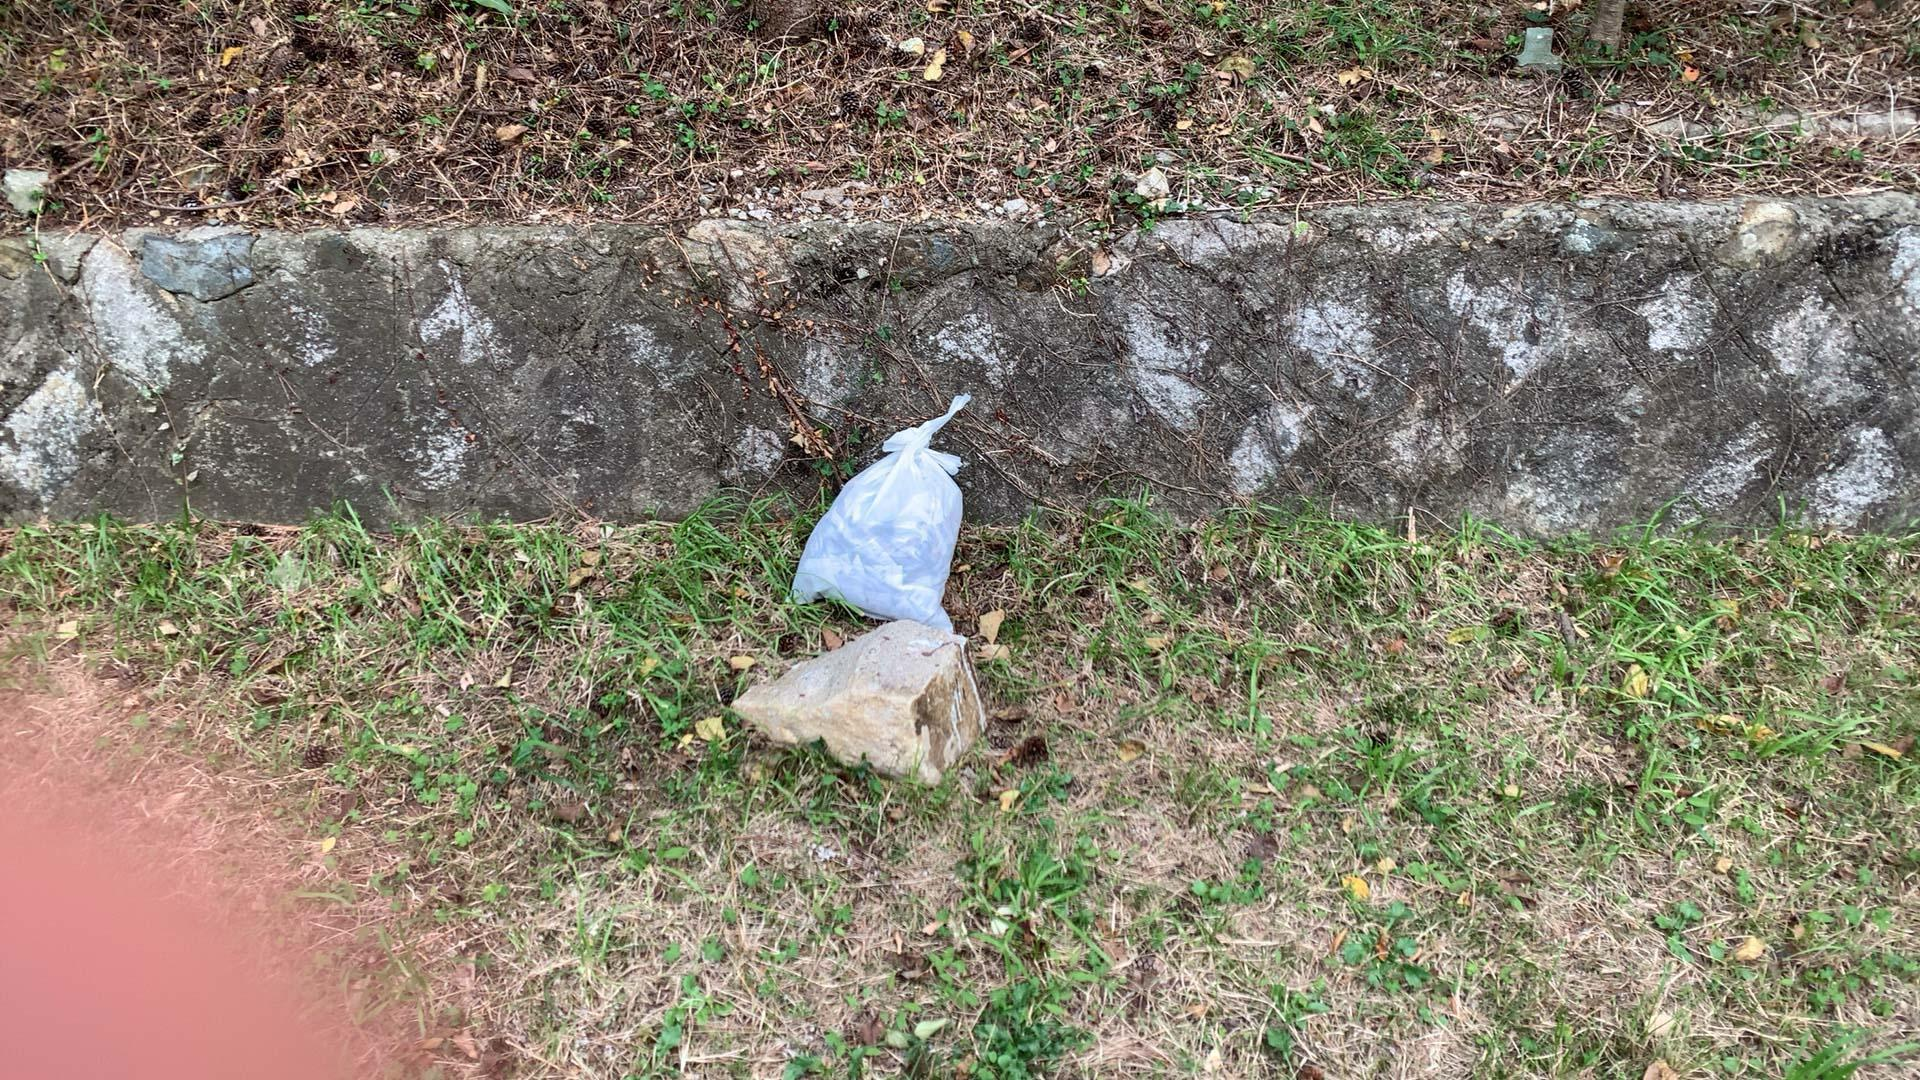white_bag: (767, 381, 1004, 650)
